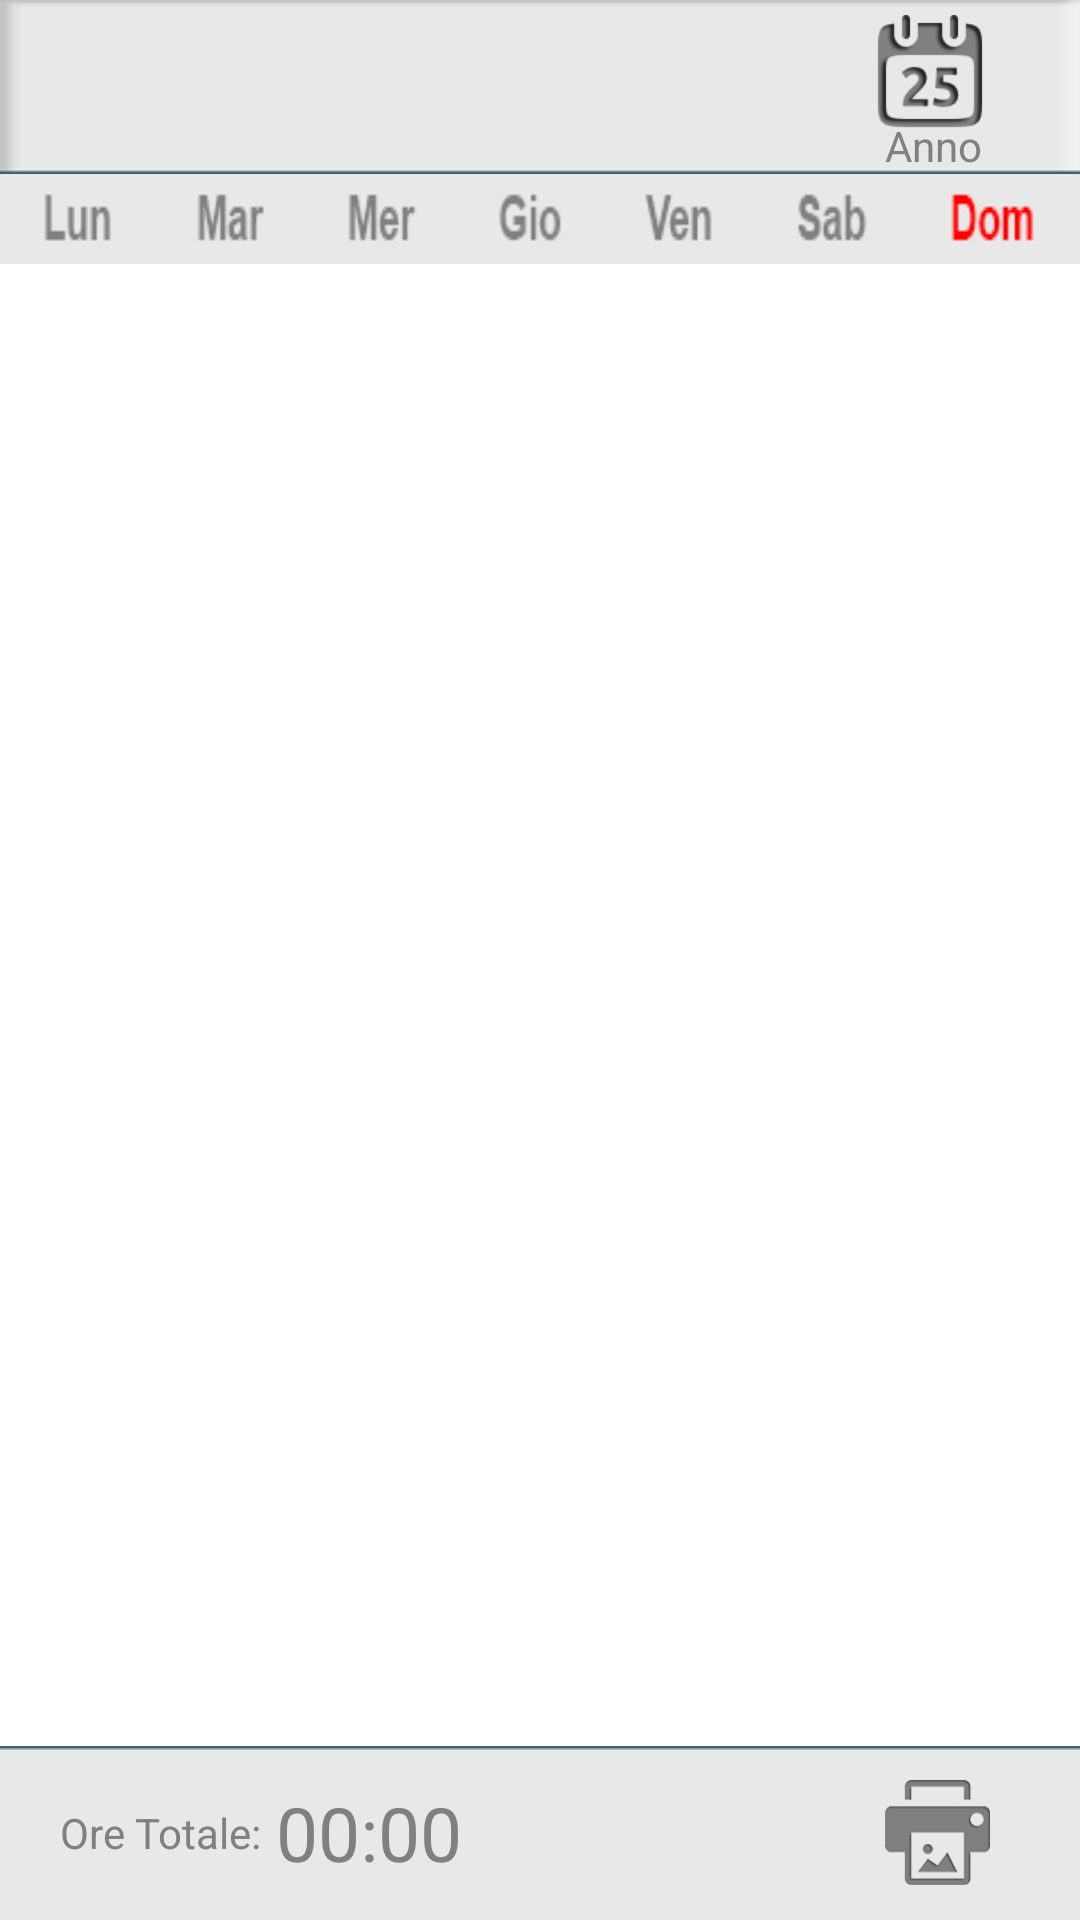

Icons on this 1080 × 1920 Android screen, each with the point to tap as [x,y]:
calendario: [930,71]
stanpa: [937,1832]
